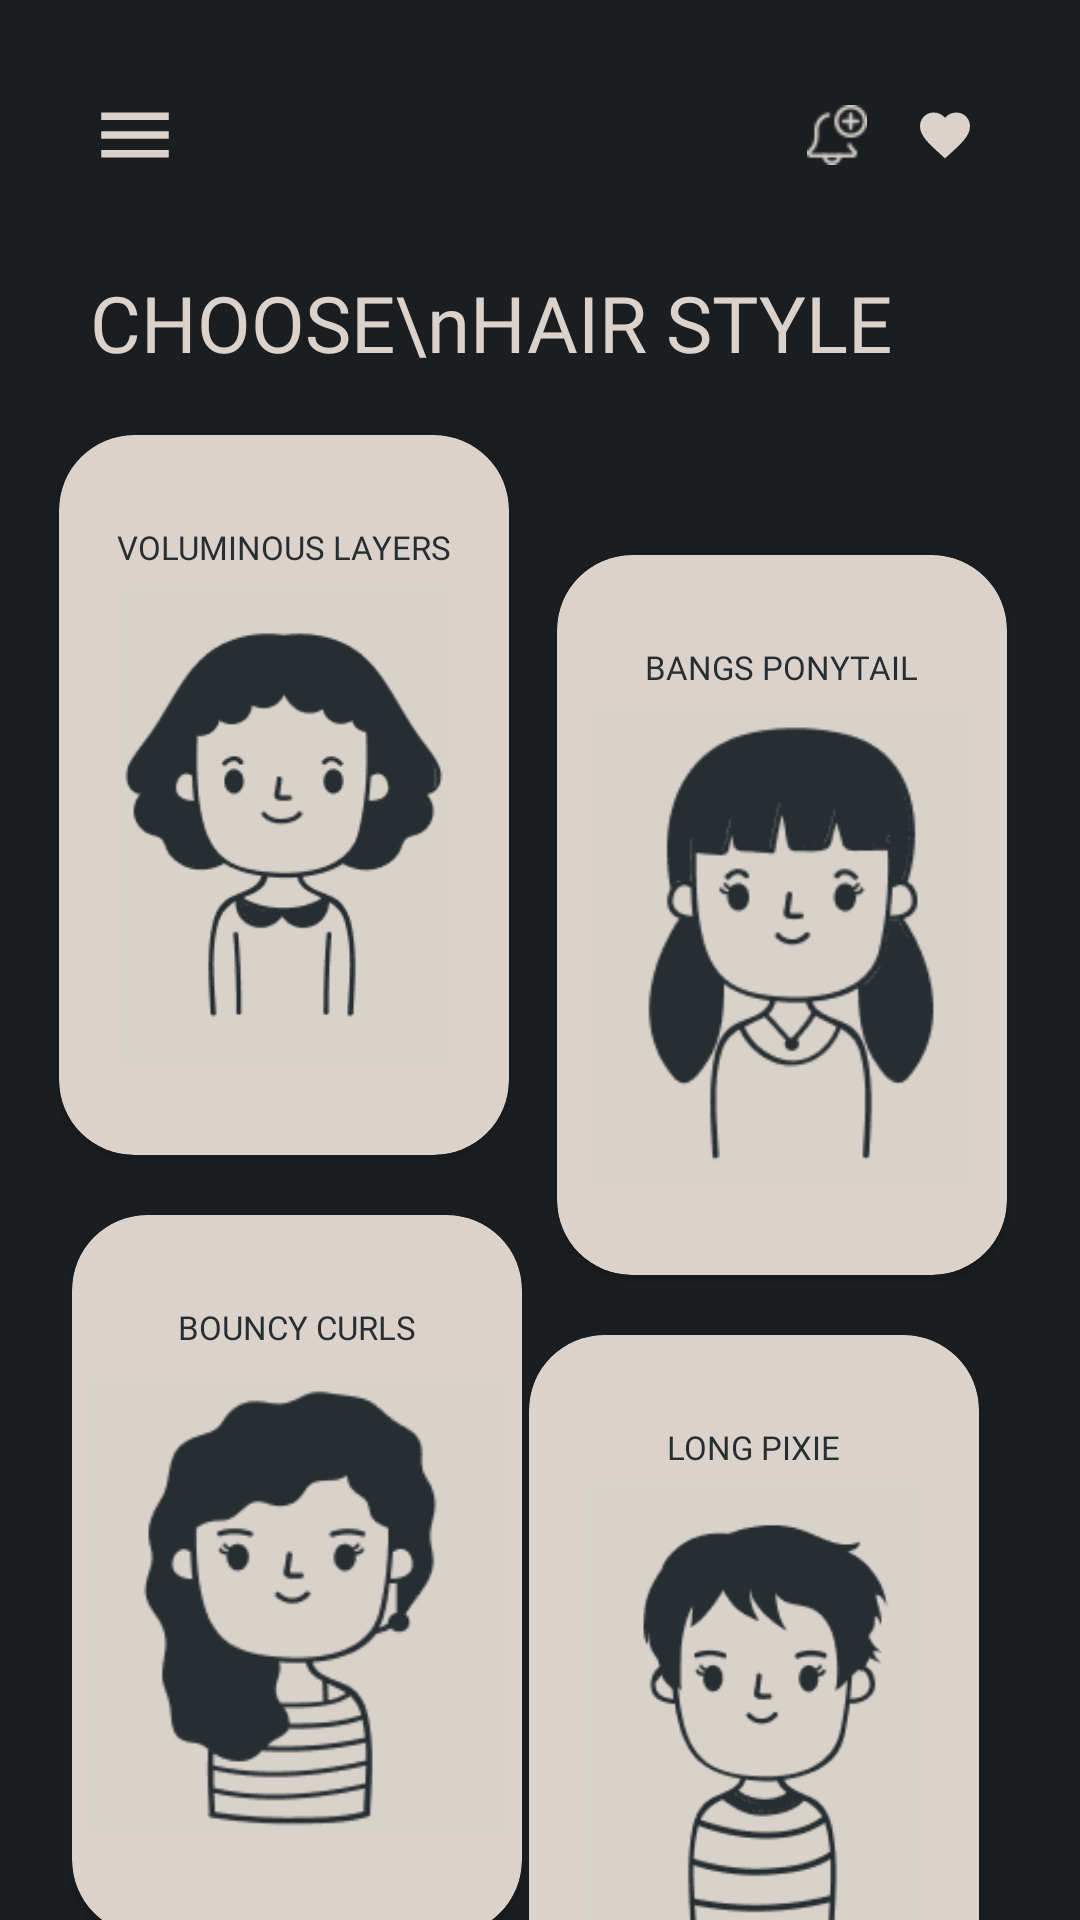

Icon bounding boxes for this 1080px×1920px phone screenshot, format [x1,y1,x2,y2]:
favorite: [920,112,970,158]
menu: [101,112,169,158]
notification: [807,105,867,165]
